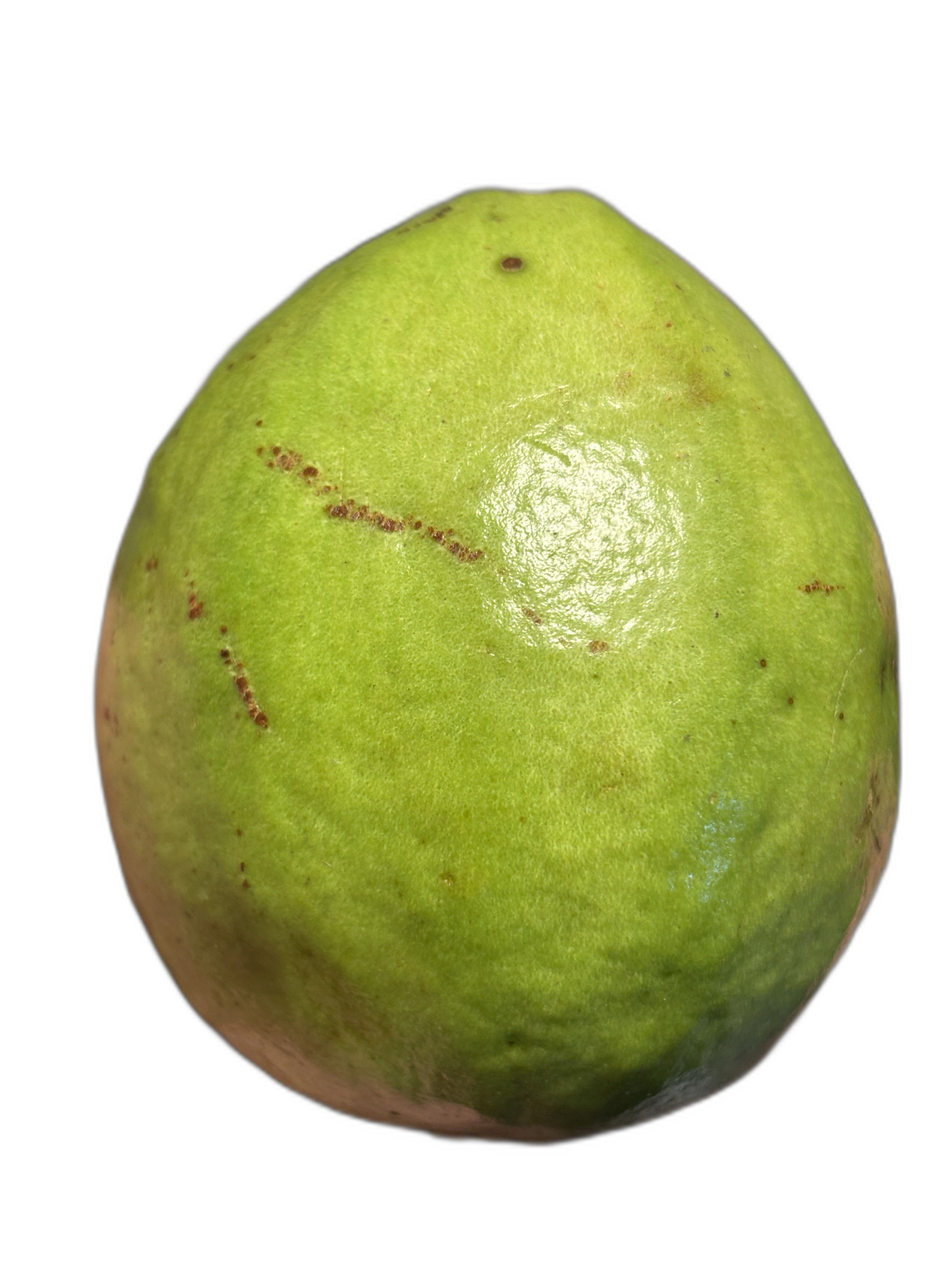guava: (189, 174, 794, 1227)
